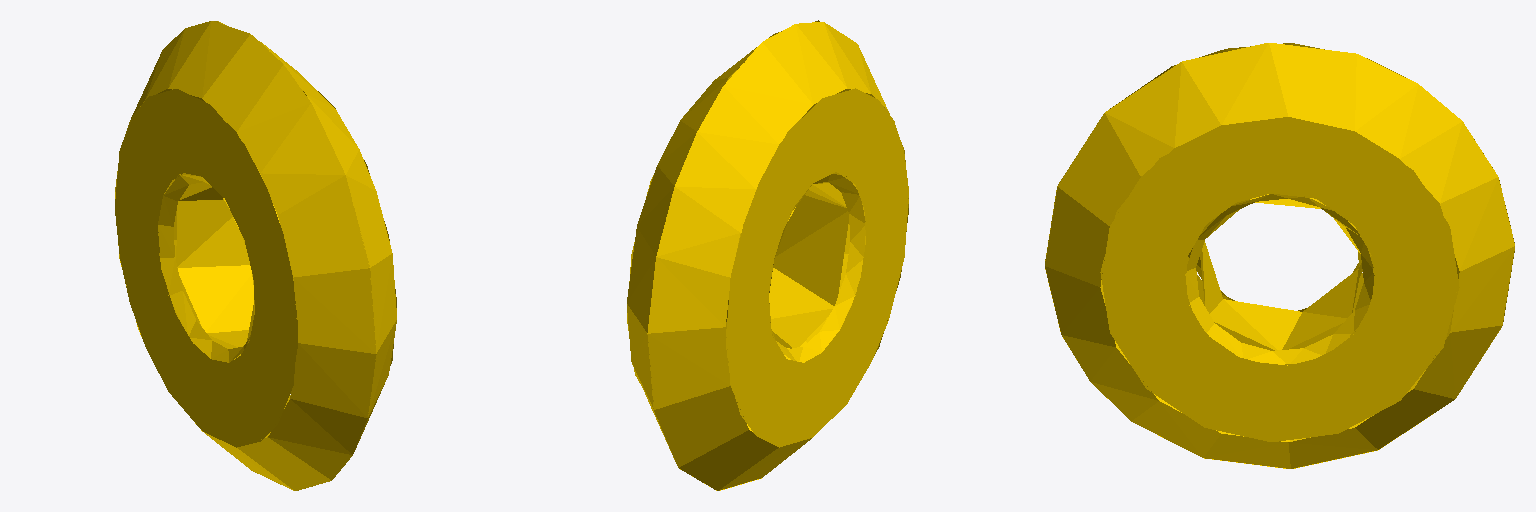
robot.urdf — probe:
<?xml version="1.0"?>
<robot name="probe">

  <link name="probe_link">
    <inertial>
      <mass value="0.00954"/>
      <origin xyz="0 0 0"/>
      <inertia
        ixx="1.965e-6" ixy="0.0" ixz="0.0"
        iyy="1.048e-6" iyz="0.0"
        izz="1.048e-6"/>
    </inertial>
    <visual>
      <geometry>
        <mesh filename="package://leo_erc_description/models/Probe.dae"/>
      </geometry>
    </visual>
    <collision>
      <geometry>
        <mesh filename="package://leo_erc_description/models/Probe.dae"/>
      </geometry>
    </collision>
  </link>

  <gazebo reference="probe_link">
    <mu1>3.0</mu1>
    <mu2>3.0</mu2>
    <fdir1>0 1 0</fdir1>
    <minDepth>0.002</minDepth>
  </gazebo>

</robot>

--- What the picture shows (computed from the rendered views, not written in the file) ---
Views: 3 orthographic renders of the robot side by side, from view 1: azimuth 30°, elevation 25°; view 2: azimuth 150°, elevation 25°; view 3: azimuth 270°, elevation 25°.
Model probe with 1 links and 0 joints (none), rooted at probe_link, posed every joint at zero.
Visible links, largest first — view 1: probe_link; view 2: probe_link; view 3: probe_link.
Link boxes in pixels (box(x1,y1,x2,y2)): probe_link: box(115, 21, 396, 490); probe_link: box(627, 20, 908, 490); probe_link: box(1045, 43, 1514, 468).
Bounding box of the posed robot: 0.0101 × 0.0421 × 0.0421 m (x, y, z).
Meshes: 1 distinct files referenced, 1 mesh visuals loaded (1 Collada DAE).
